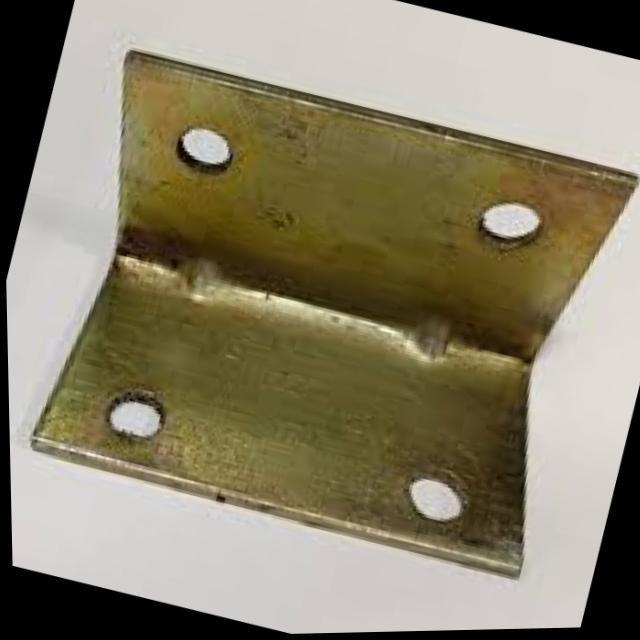holes: (99, 380, 167, 443), (472, 194, 544, 253), (398, 471, 466, 527), (169, 121, 234, 176)
